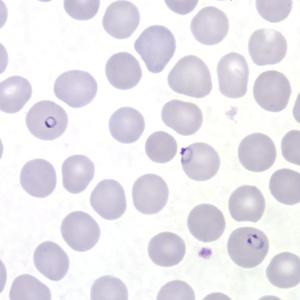Infected: (26, 100, 68, 140), (227, 227, 268, 267), (180, 143, 220, 181)
Uninfected: (168, 56, 212, 99), (135, 26, 175, 71), (54, 70, 97, 108), (253, 70, 290, 113), (61, 212, 100, 252), (131, 173, 168, 215), (161, 100, 203, 136), (216, 53, 249, 98), (187, 202, 225, 241), (105, 52, 143, 90), (191, 7, 229, 45), (20, 159, 57, 198), (238, 133, 275, 172), (90, 180, 126, 219), (103, 1, 140, 38), (33, 242, 69, 280), (249, 29, 287, 65), (229, 186, 265, 223), (147, 232, 185, 267), (108, 107, 144, 143), (61, 155, 94, 193), (267, 253, 300, 288), (0, 76, 32, 112), (269, 169, 299, 205), (145, 131, 177, 163), (9, 275, 51, 299), (90, 277, 127, 300), (256, 0, 292, 23), (280, 131, 300, 168), (64, 1, 100, 20)
